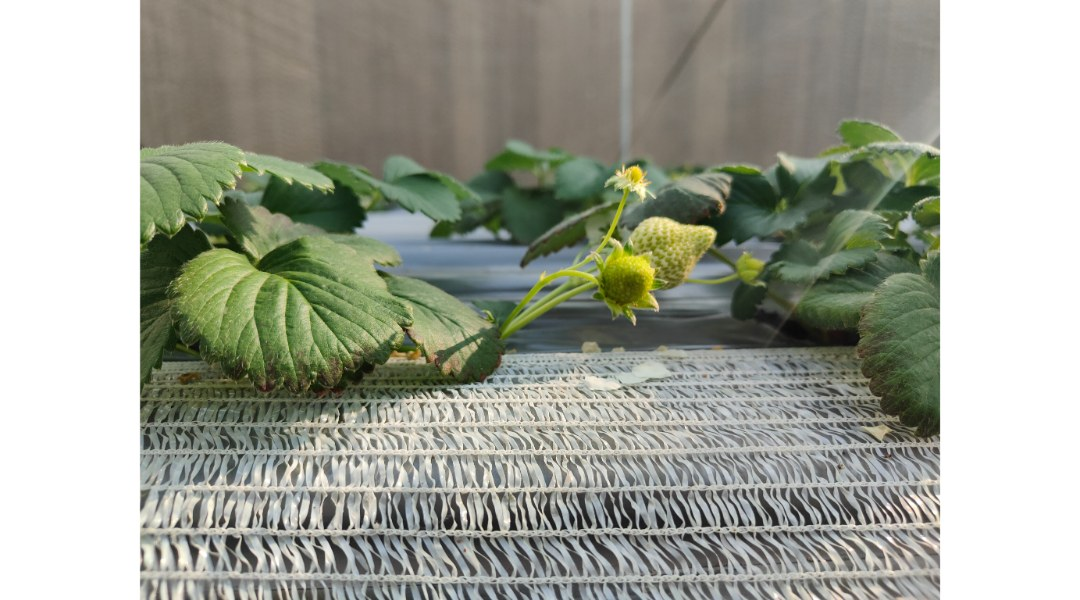berry: (622, 214, 724, 297), (598, 245, 657, 325), (600, 157, 663, 200)
